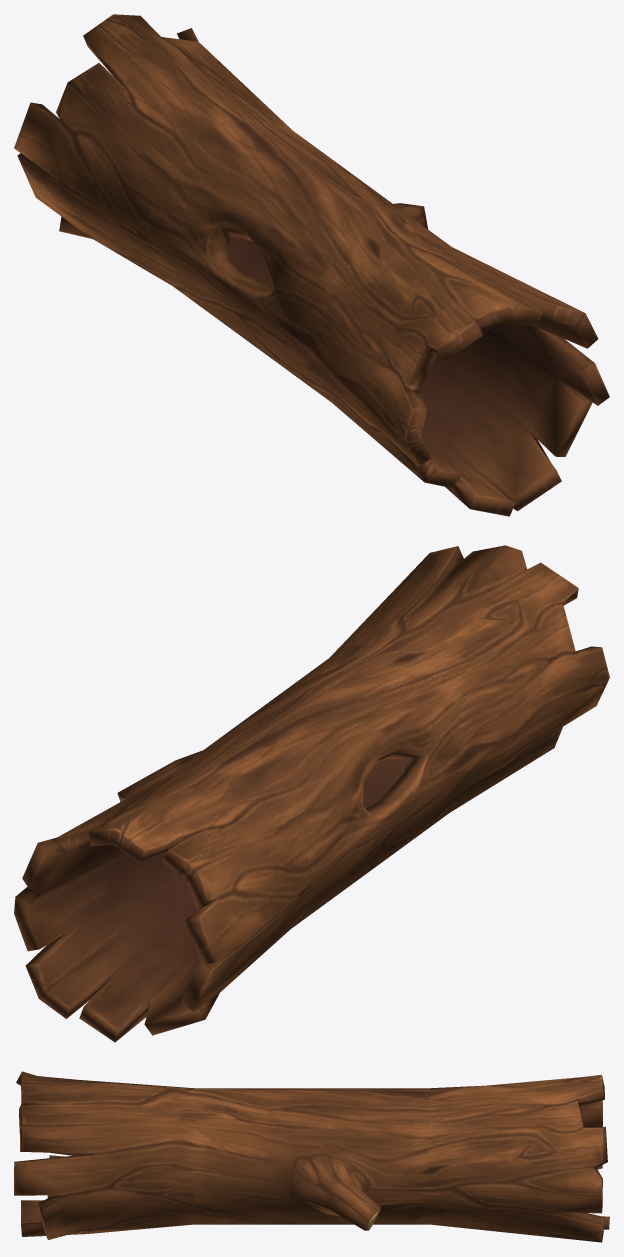
File: ppsForestTrunk.FBX
The picture shows the model from 3 angles, top to bottom: view 1: azimuth 30°, elevation 25°; view 2: azimuth 150°, elevation 25°; view 3: azimuth 270°, elevation 25°; orthographic projection. The views are drawn at different scales.
Visible parts, largest first — view 1: ppsForestTrunk; view 2: ppsForestTrunk; view 3: ppsForestTrunk.
Boxes of the visible parts, box(x1,y1,x2,y2) form: ppsForestTrunk: box(14, 14, 609, 516); ppsForestTrunk: box(14, 545, 609, 1042); ppsForestTrunk: box(14, 1071, 609, 1242).
Bounding box in the file's own units: 151 × 121 × 411.
